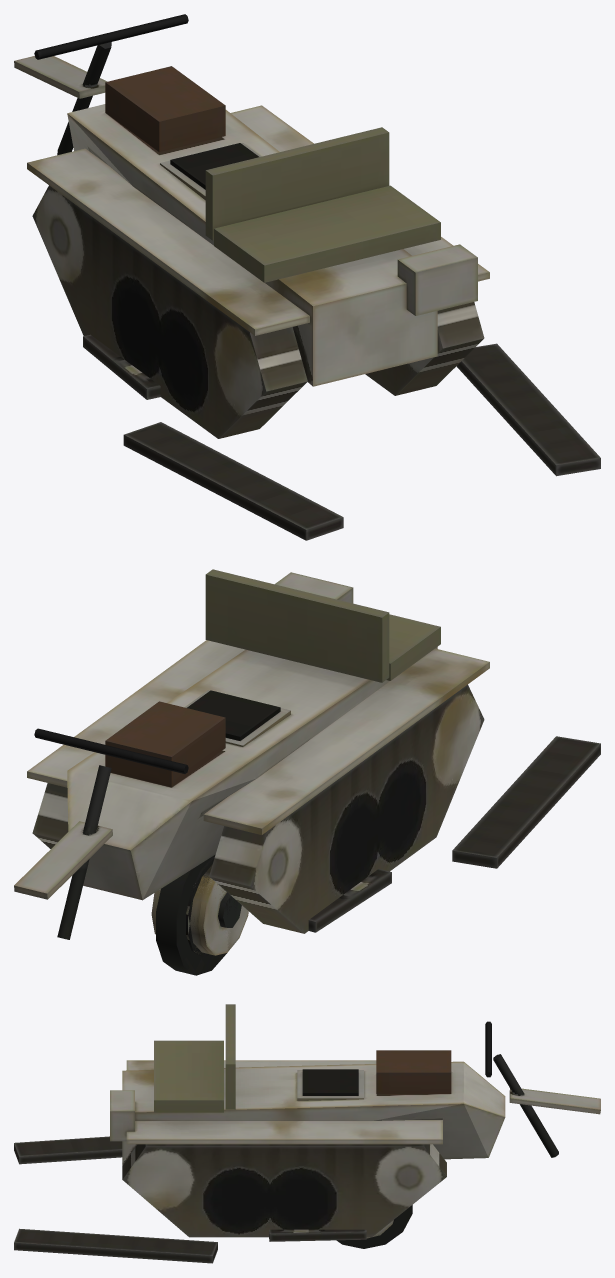
The model's file is kettenkrad_winter.glb.
3 renders of one model, top to bottom at view 1: azimuth 30°, elevation 25°; view 2: azimuth 150°, elevation 25°; view 3: azimuth 270°, elevation 25°, orthographic. The views are drawn at different scales.
Parts seen in each view (by area): view 1: hull_ok, hull_trackL, hull_trackR; view 2: hull_ok, hull_trackL, wheels_R_12_ok, wheels_L_4_ok, wheels_L_5_ok; view 3: hull_ok, hull_trackR, hull_trackL, wheels_R_12_ok.
Part boxes in pixels (bbox=[...]): hull_ok: bbox=[14, 14, 489, 438]; hull_trackL: bbox=[83, 334, 343, 540]; hull_trackR: bbox=[456, 343, 600, 476]; hull_ok: bbox=[14, 569, 489, 939]; hull_trackL: bbox=[308, 736, 600, 932]; wheels_R_12_ok: bbox=[156, 854, 226, 975]; wheels_L_4_ok: bbox=[159, 864, 241, 955]; wheels_L_5_ok: bbox=[151, 875, 248, 955]; hull_ok: bbox=[110, 1004, 600, 1237]; hull_trackR: bbox=[14, 1228, 366, 1263]; hull_trackL: bbox=[14, 1136, 122, 1164]; wheels_R_12_ok: bbox=[336, 1205, 412, 1248].
Size of the model in its own units: 1.8 by 1.4 by 3.53.
Materials: 9 (9 with a texture image).
